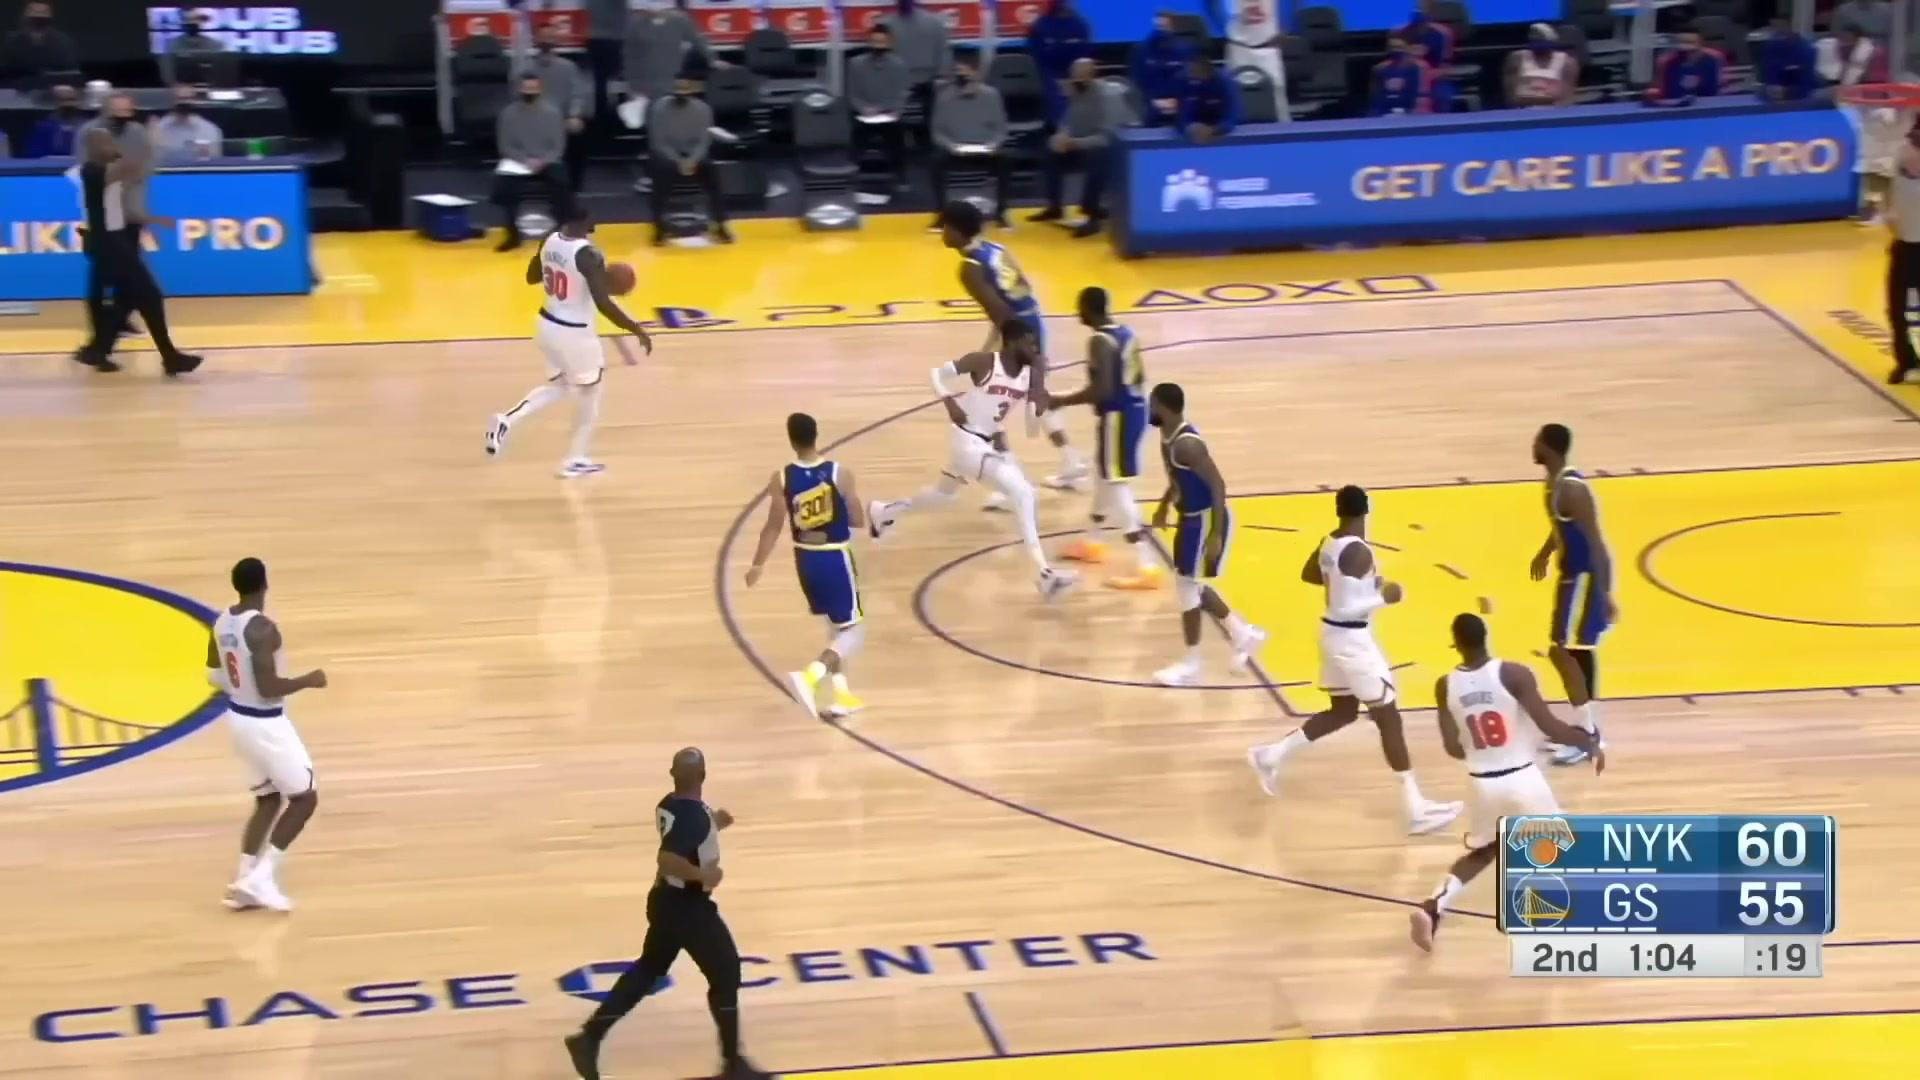no_foul: (454, 177, 657, 479)
